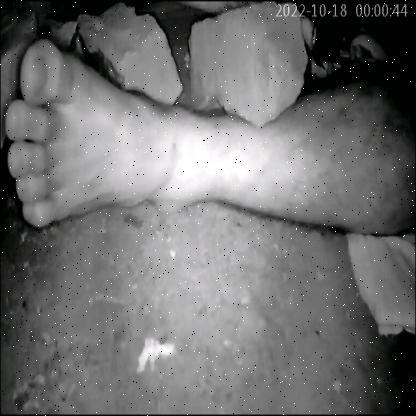leg: (0, 21, 416, 288)
